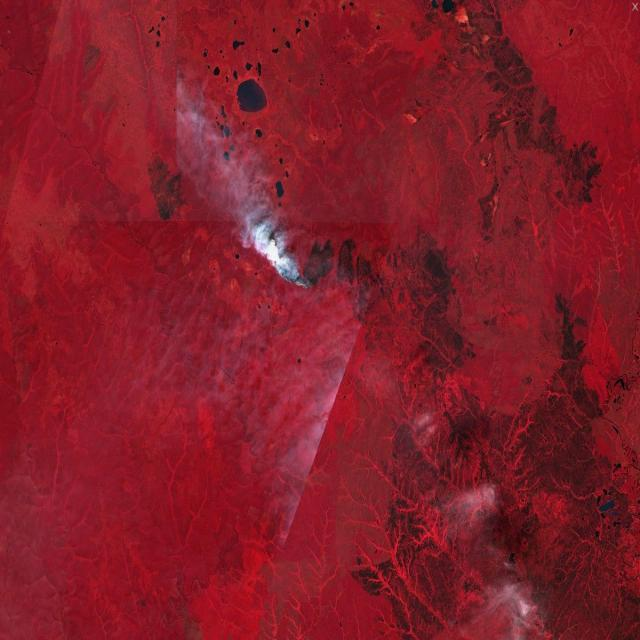fire: (266, 241, 321, 298)
